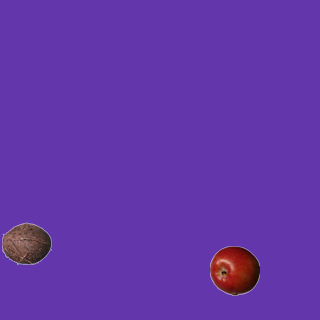Apple Braeburn: (209, 245, 259, 295)
Cocos: (1, 218, 51, 268)
